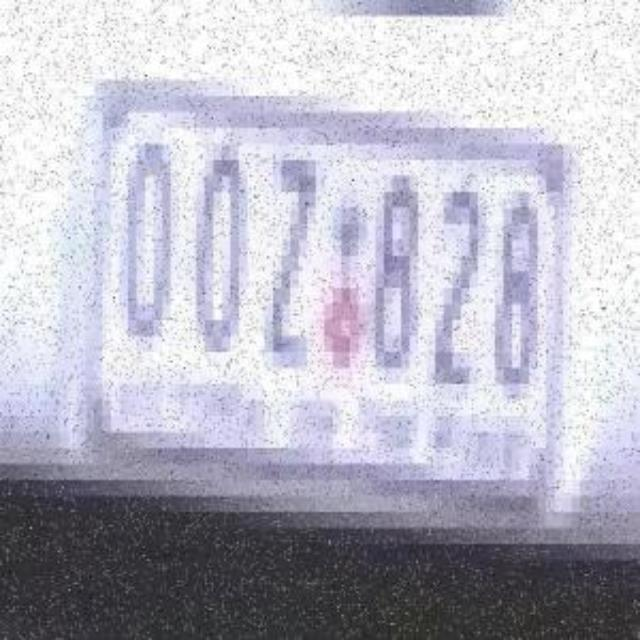License Plate: (58, 22, 588, 544)
